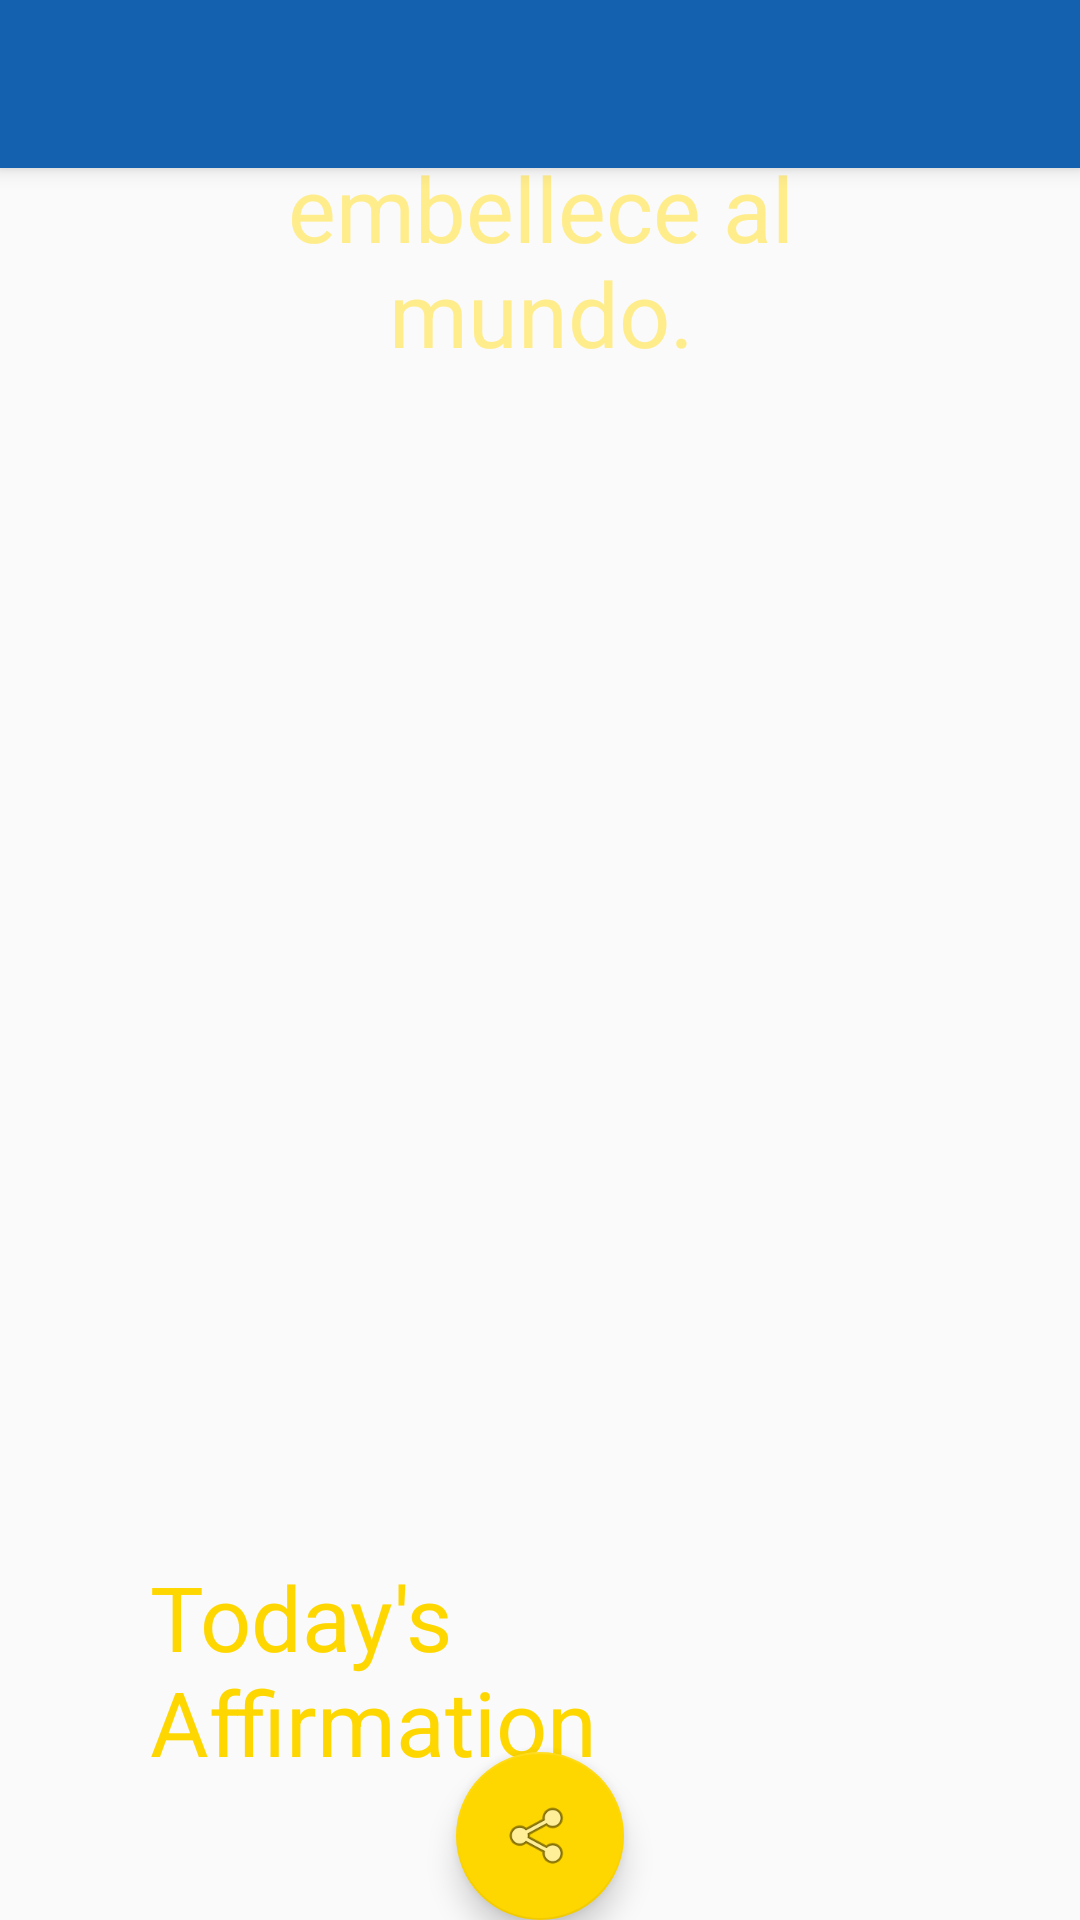

Locate icon controls on the screen. Image size 1080 x 1920, boxes as (x1, y1, x2, y2).
share: (456, 1752, 624, 1920)
